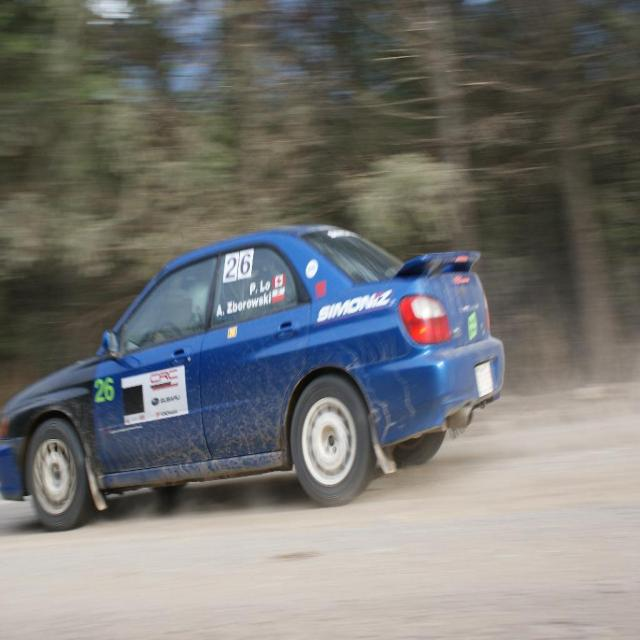car: (1, 218, 495, 514)
